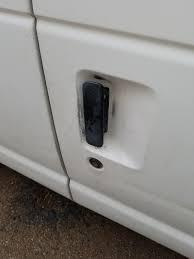doorhandle: (62, 82, 157, 175)
